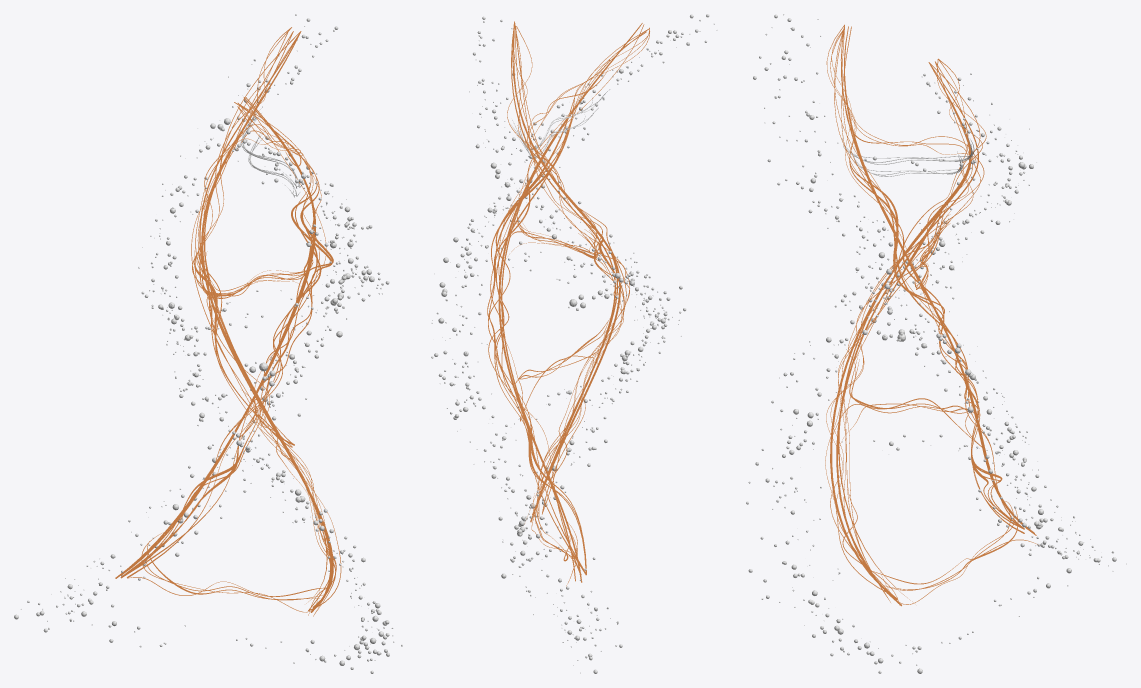
File: DNA_9.glb
3 renders of one model, left to right at view 1: azimuth 30°, elevation 25°; view 2: azimuth 150°, elevation 25°; view 3: azimuth 270°, elevation 25°, orthographic. The views are drawn at different scales.
Parts seen in each view (by area): view 1: NurbsPath.014; view 2: NurbsPath.014; view 3: NurbsPath.014.
Boxes of the visible parts, x1=… form: NurbsPath.014: x1=115, y1=27, x2=341, y2=616; NurbsPath.014: x1=487, y1=21, x2=649, y2=586; NurbsPath.014: x1=825, y1=24, x2=1039, y2=606.
Bounding box in the file's own units: 8.53 × 19.8 × 11.29.
